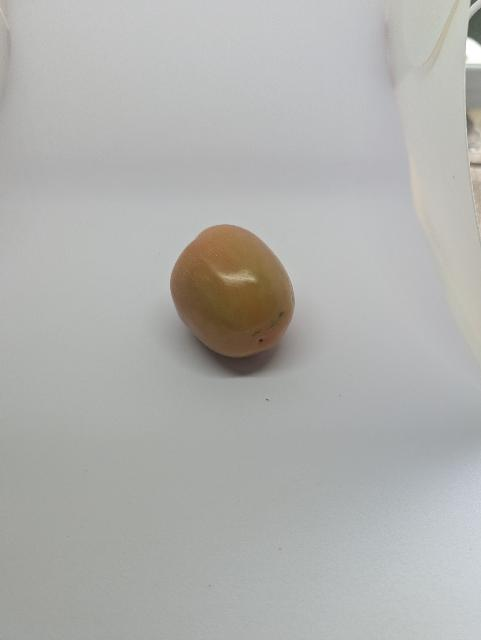turning: (160, 217, 311, 369)
